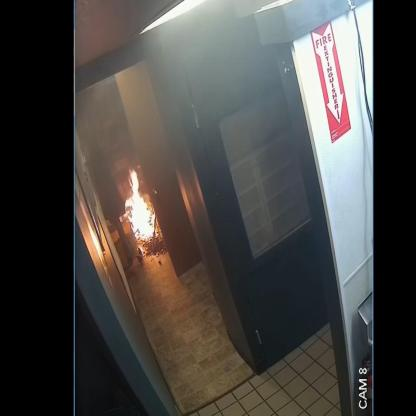fire: (125, 169, 158, 240)
